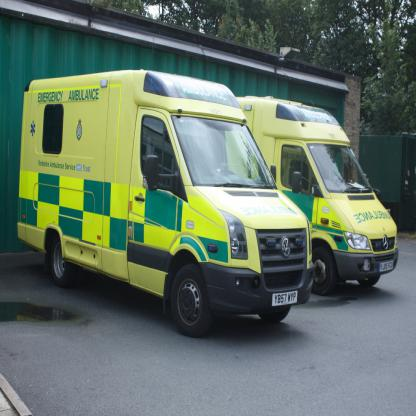Ambulance: (17, 67, 316, 338), (225, 92, 400, 296)
